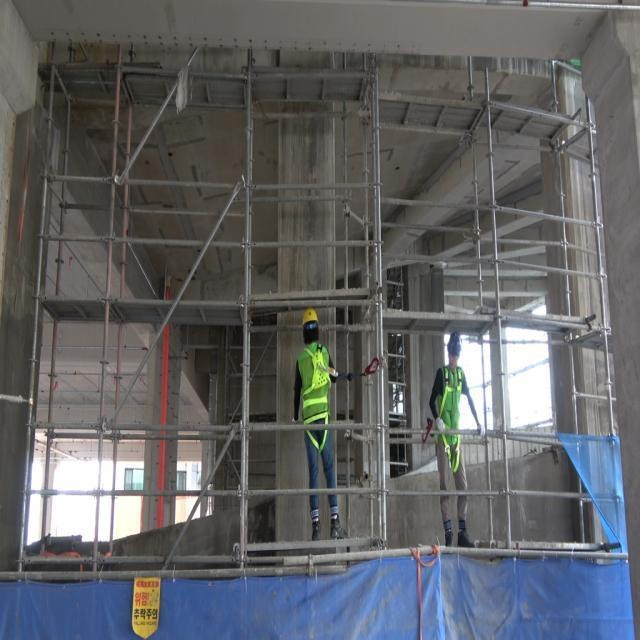Arnes_seguridad: (301, 345, 330, 448), (442, 363, 465, 469)
